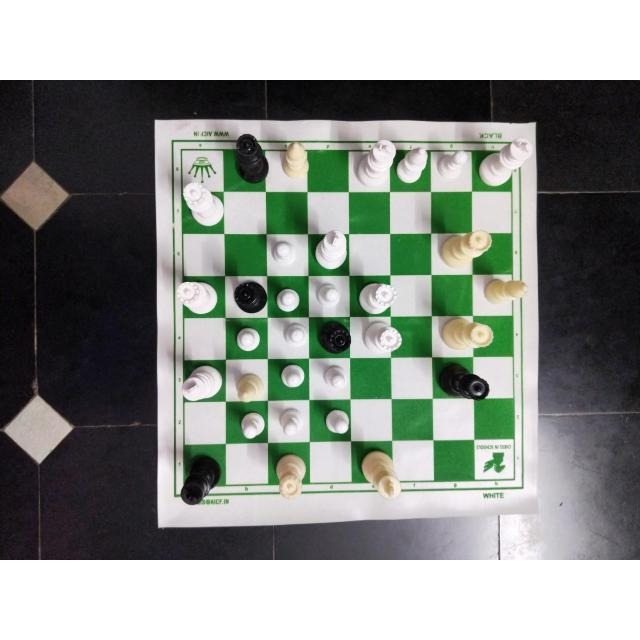black-king: (179, 455, 220, 504)
black-queen: (436, 362, 491, 400), (234, 131, 270, 185), (233, 280, 267, 313), (315, 321, 349, 352)
white-bishop: (484, 277, 528, 305), (281, 140, 309, 180), (399, 148, 427, 184), (234, 374, 264, 402)
white-king: (477, 136, 533, 187), (355, 138, 396, 188), (359, 450, 400, 500), (180, 364, 224, 399), (315, 229, 349, 271)
white-pawn: (437, 150, 468, 181), (276, 406, 305, 438), (318, 364, 349, 390), (270, 239, 297, 268), (234, 326, 264, 352), (238, 410, 264, 440), (323, 407, 350, 435), (276, 363, 305, 389), (315, 281, 341, 309), (275, 285, 301, 313), (283, 322, 308, 350)
white-queen: (441, 228, 495, 268), (439, 315, 495, 351), (181, 182, 225, 226), (273, 452, 308, 499), (176, 280, 218, 316), (355, 280, 396, 316), (363, 321, 403, 355)
